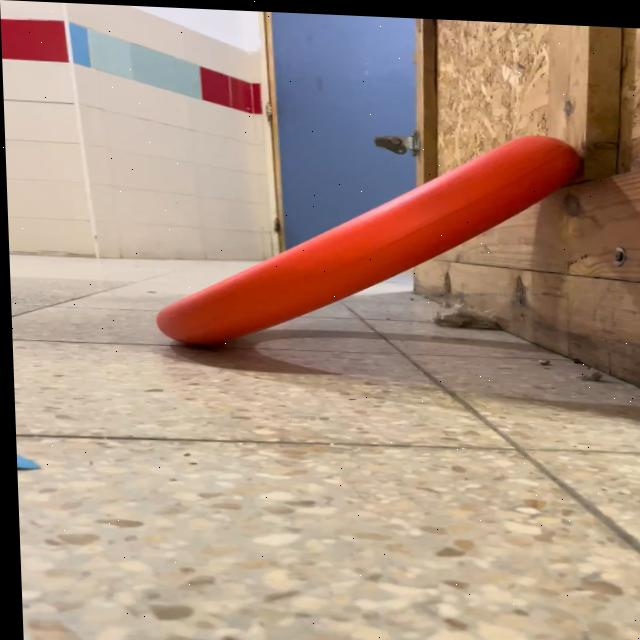note: (144, 114, 591, 361)
